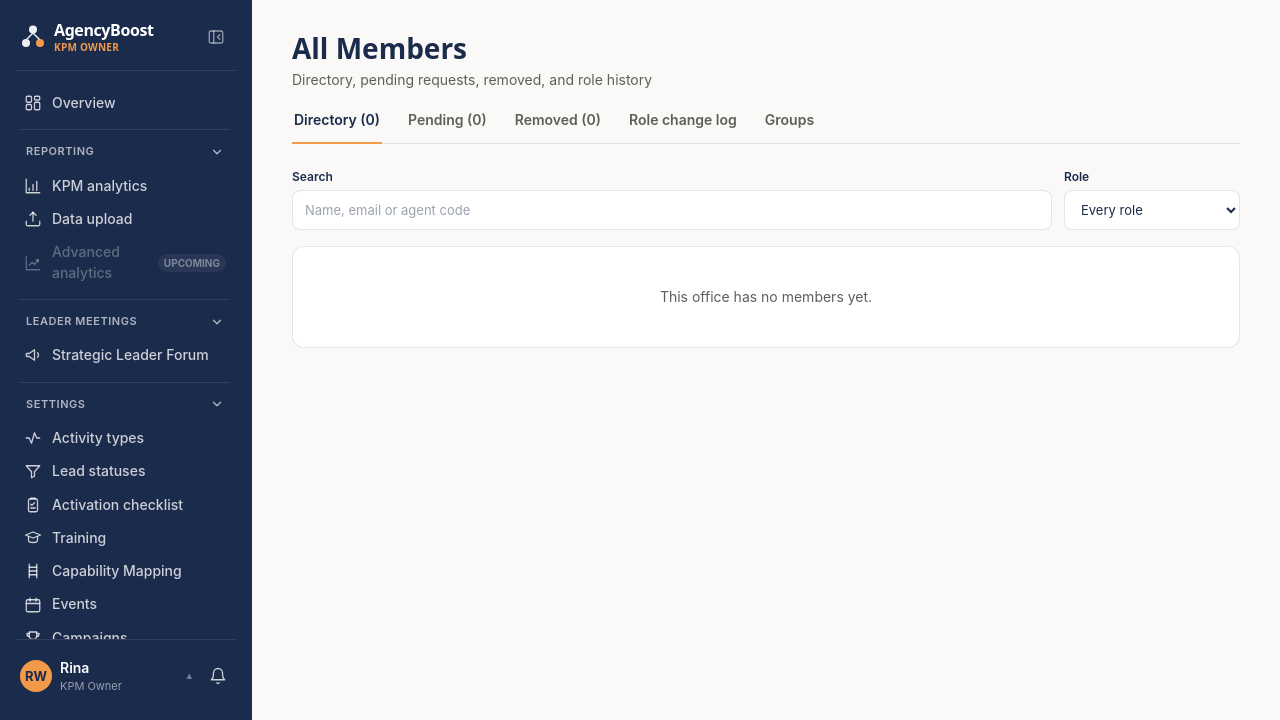
Test: members directory (P3-T1 AC-3) › asks for removed members explicitly, on their own tab
Click the button "Removed (0)" at (558, 127), box [513,110,603,144]
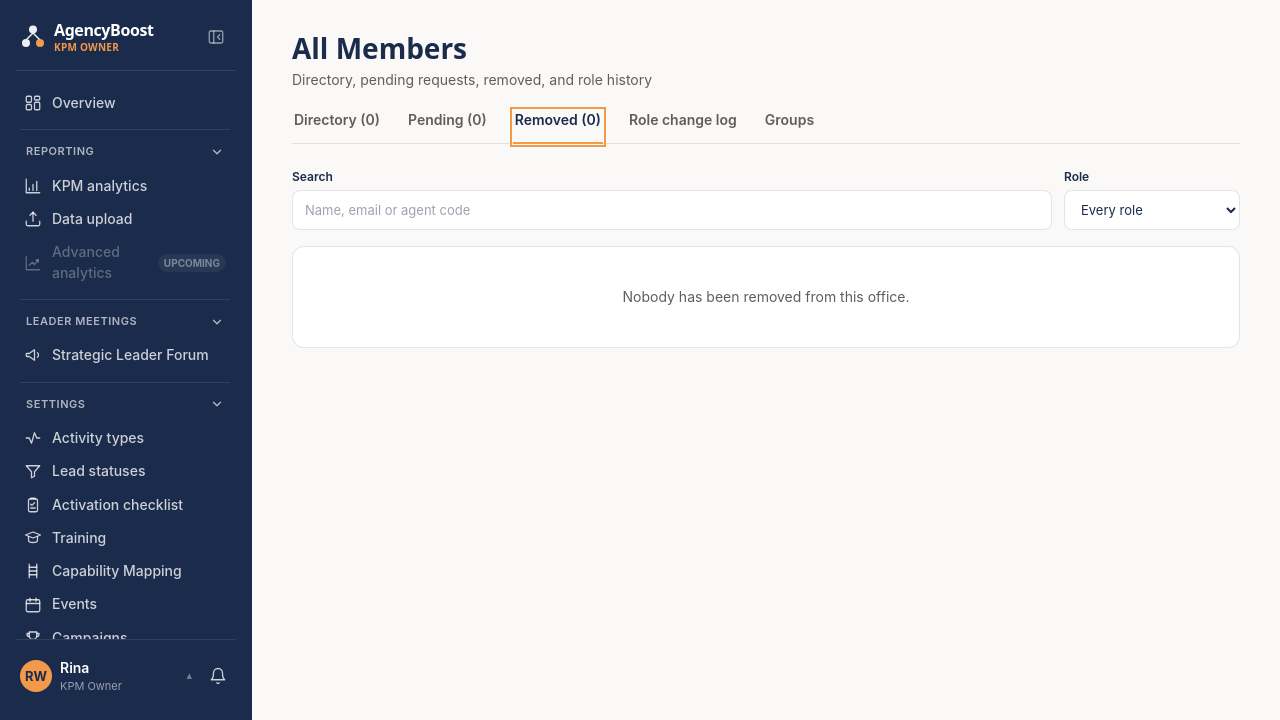
Check: the text "Nobody has been removed from this office." is shown, box [622,288,910,305]
